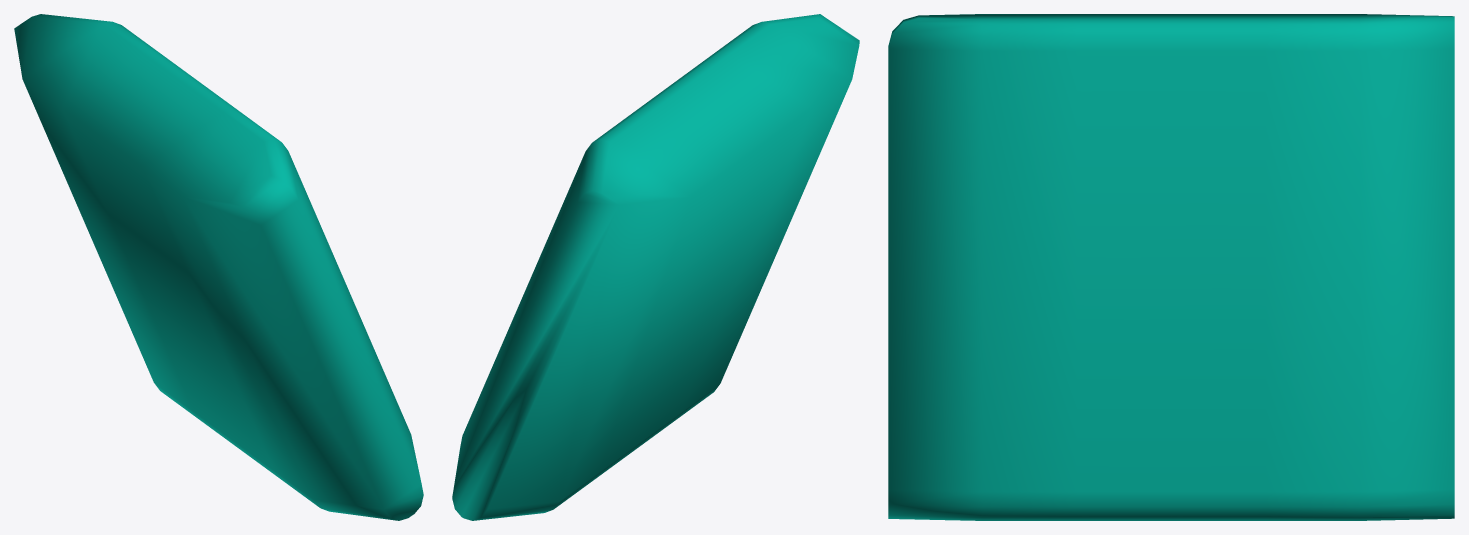
The model's file is Pillow.fbx.
3 renders of one model, left to right at view 1: azimuth 30°, elevation 25°; view 2: azimuth 150°, elevation 25°; view 3: azimuth 270°, elevation 25°, orthographic. The views are drawn at different scales.
Visible parts, largest first — view 1: Pillow.001; view 2: Pillow.001; view 3: Pillow.001.
Boxes of the visible parts, bbox=[...] form: Pillow.001: bbox=[14, 14, 423, 520]; Pillow.001: bbox=[452, 14, 859, 520]; Pillow.001: bbox=[888, 14, 1454, 520].
Bounding box in the file's own units: 14.27 × 22.84 × 25.76.
